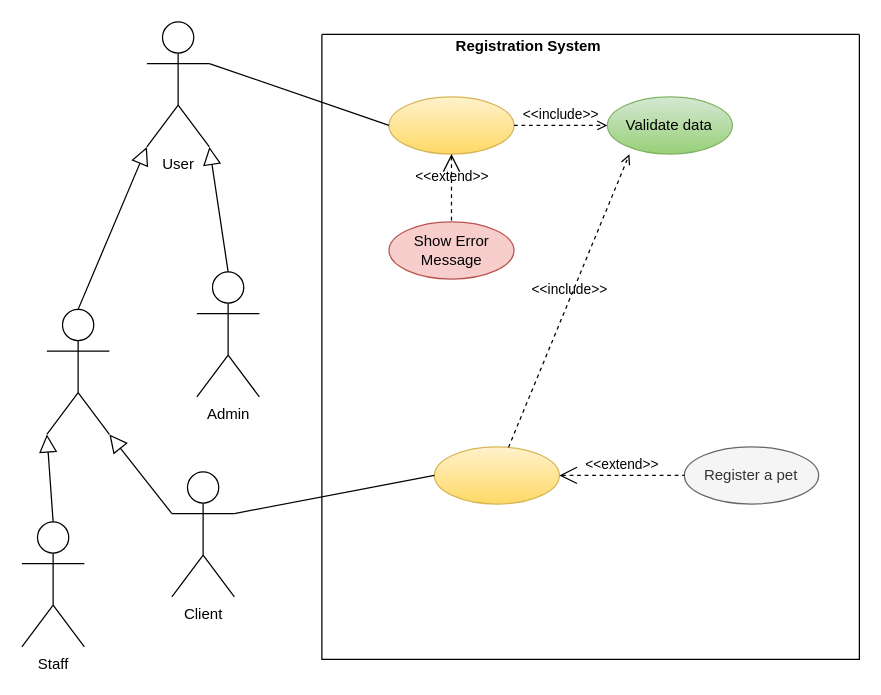
This 881x695 diagram has some shape labels left out. The box of each missing label's shape, as (x1, y1, x2, y2) in pixels:
Login: (388, 96, 514, 154)
Normal User: (46, 308, 109, 434)
Signup: (433, 446, 559, 504)
